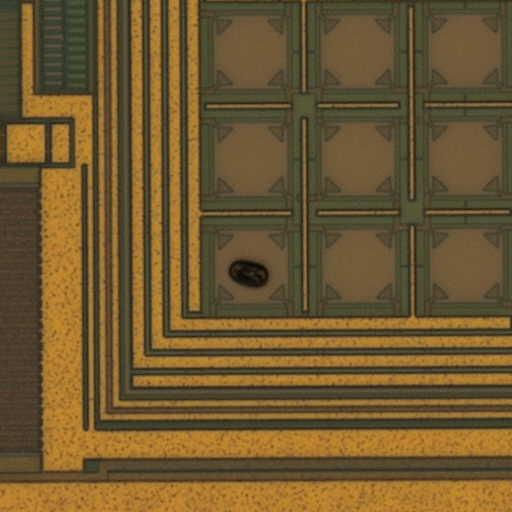PIQ PARTICLE: (224, 253, 274, 293)
